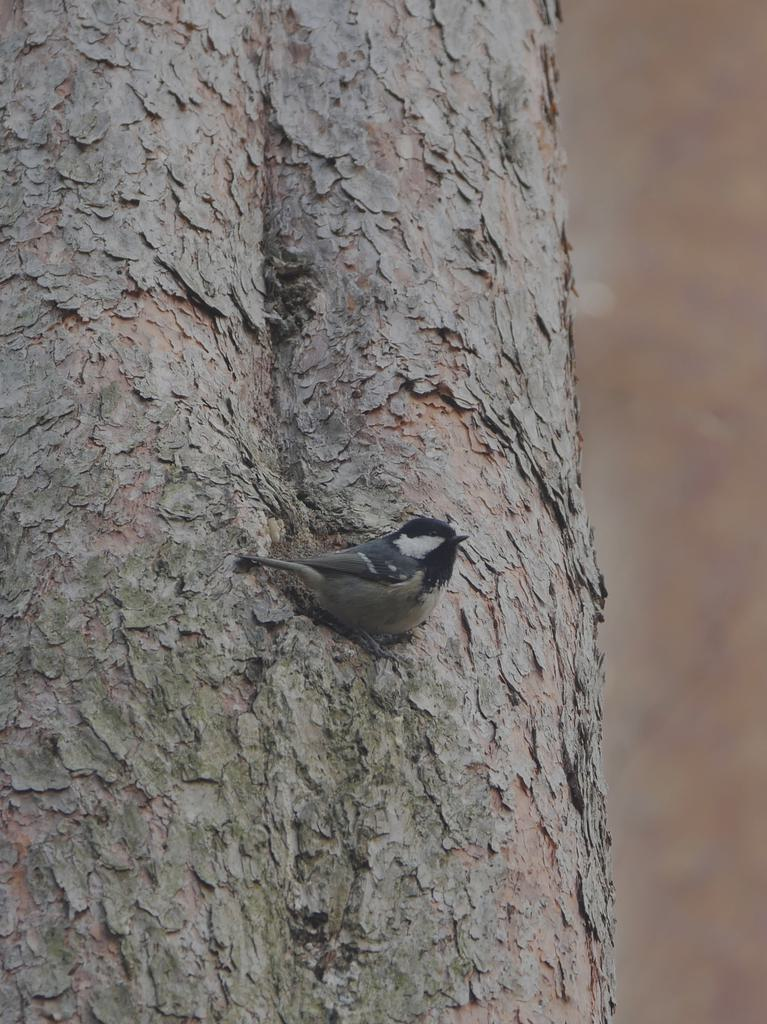PeriparusAter: (234, 514, 470, 669)
